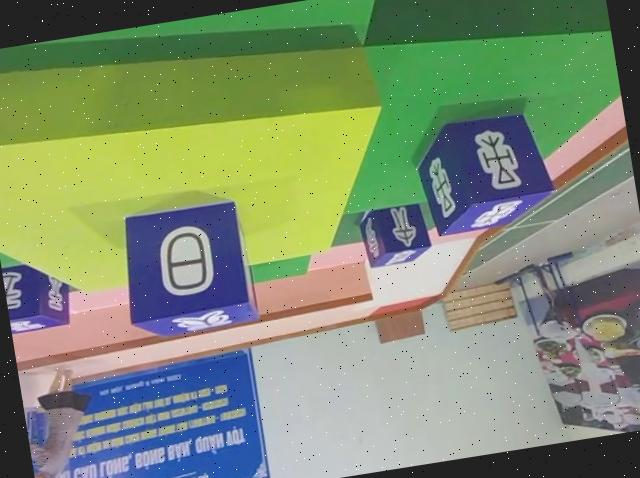R2 Fake Blue: (115, 195, 261, 341), (355, 200, 432, 270)
R2 Real Blue: (412, 105, 559, 237), (1, 258, 73, 336)
